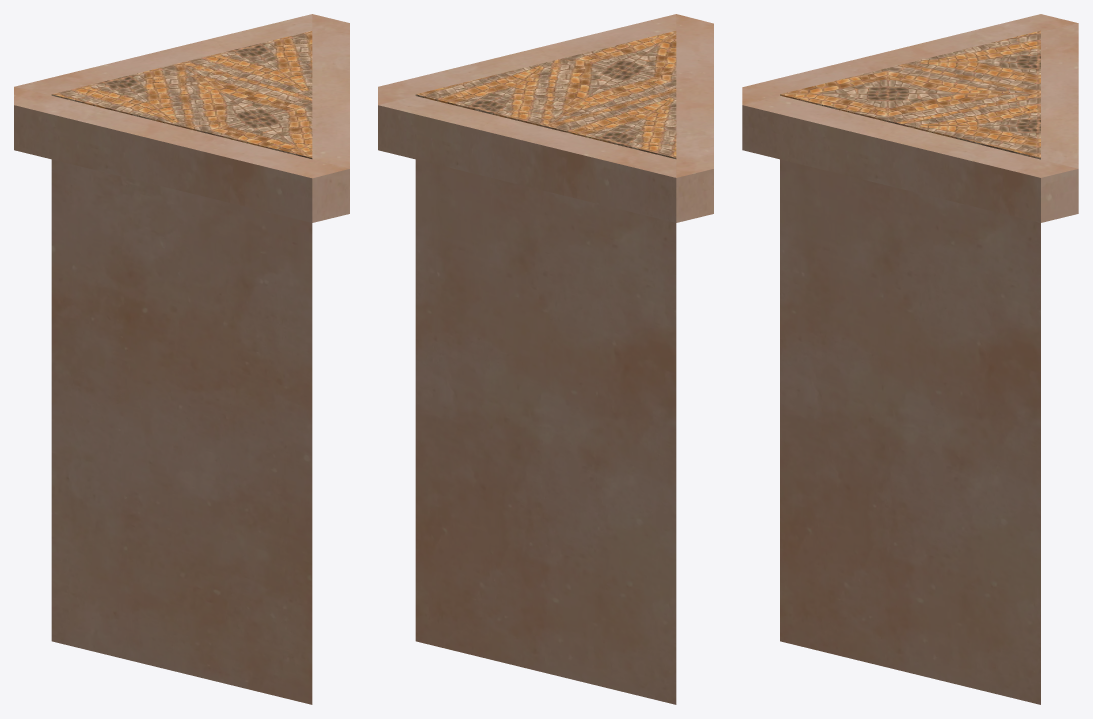
3 views of the same model, side by side, from view 1: azimuth 30°, elevation 25°; view 2: azimuth 150°, elevation 25°; view 3: azimuth 270°, elevation 25° (orthographic).
Parts seen in each view (by area): view 1: SM_BB_T4_Foundation_Triangle_Med_02_LOD0; view 2: SM_BB_T4_Foundation_Triangle_Med_02_LOD0; view 3: SM_BB_T4_Foundation_Triangle_Med_02_LOD0.
Part boxes in pixels (x1,y1,x2,y2): SM_BB_T4_Foundation_Triangle_Med_02_LOD0: (14,14,349,704); SM_BB_T4_Foundation_Triangle_Med_02_LOD0: (378,14,713,704); SM_BB_T4_Foundation_Triangle_Med_02_LOD0: (742,14,1078,704).
Bounding box in the file's own units: 1.93 × 3.01 × 1.67.
Materials: 2 (2 with a texture image).
